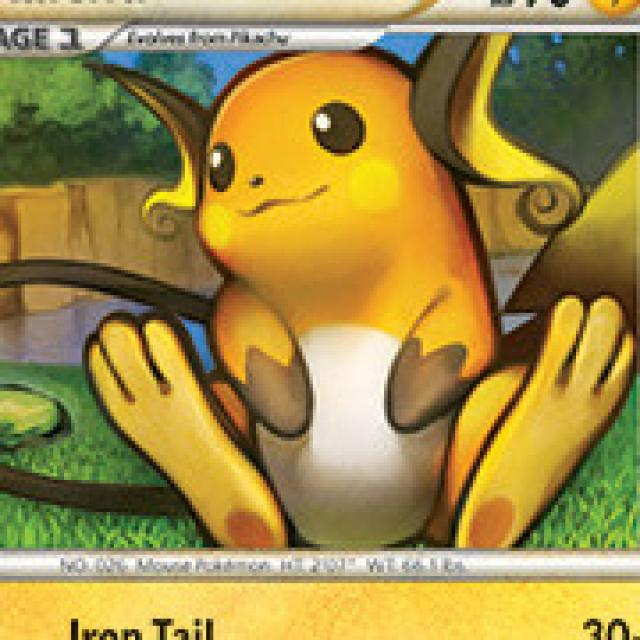Raichu: (134, 63, 550, 549)
